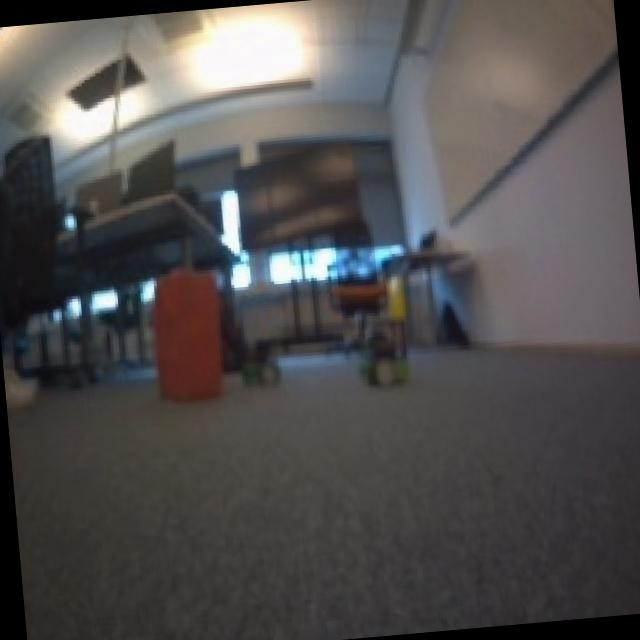robot: (354, 322, 414, 390), (234, 336, 286, 394)
target: (143, 260, 229, 403)
